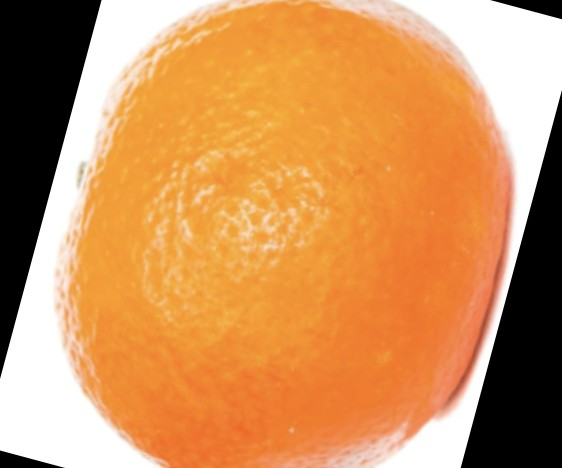fresh_orange: (55, 1, 513, 468)
